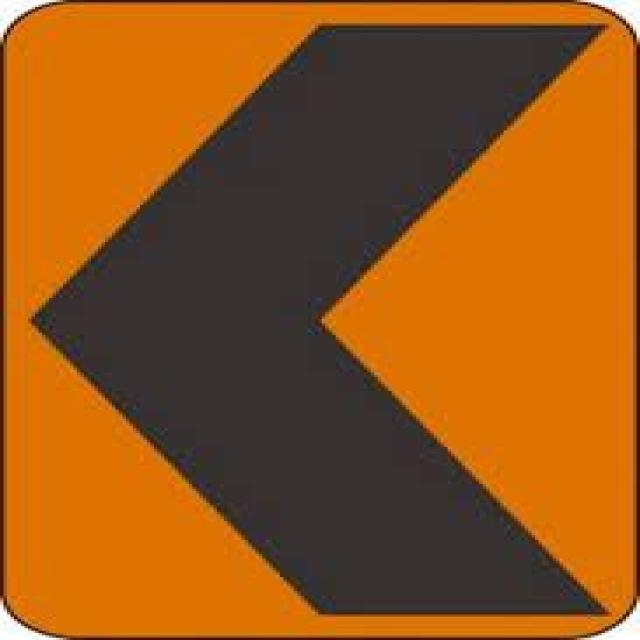chevron_left: (1, 6, 634, 640)
